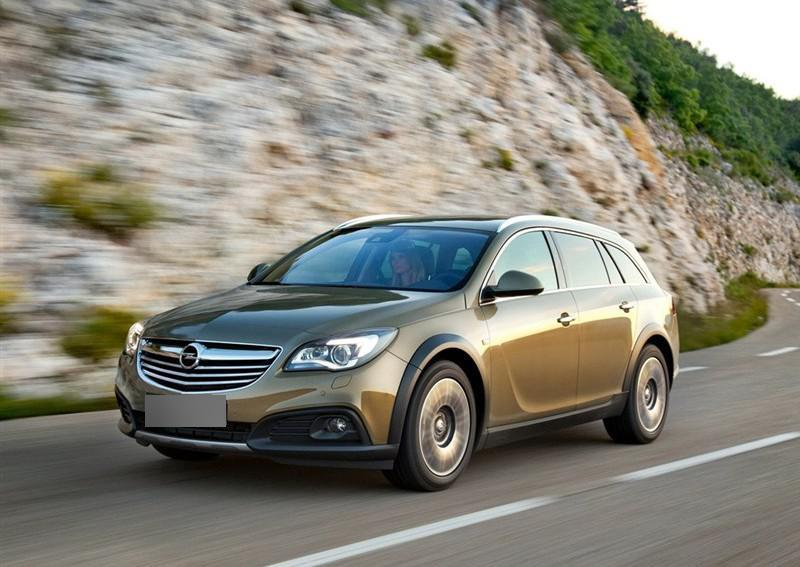Wagon: (113, 213, 682, 494)
